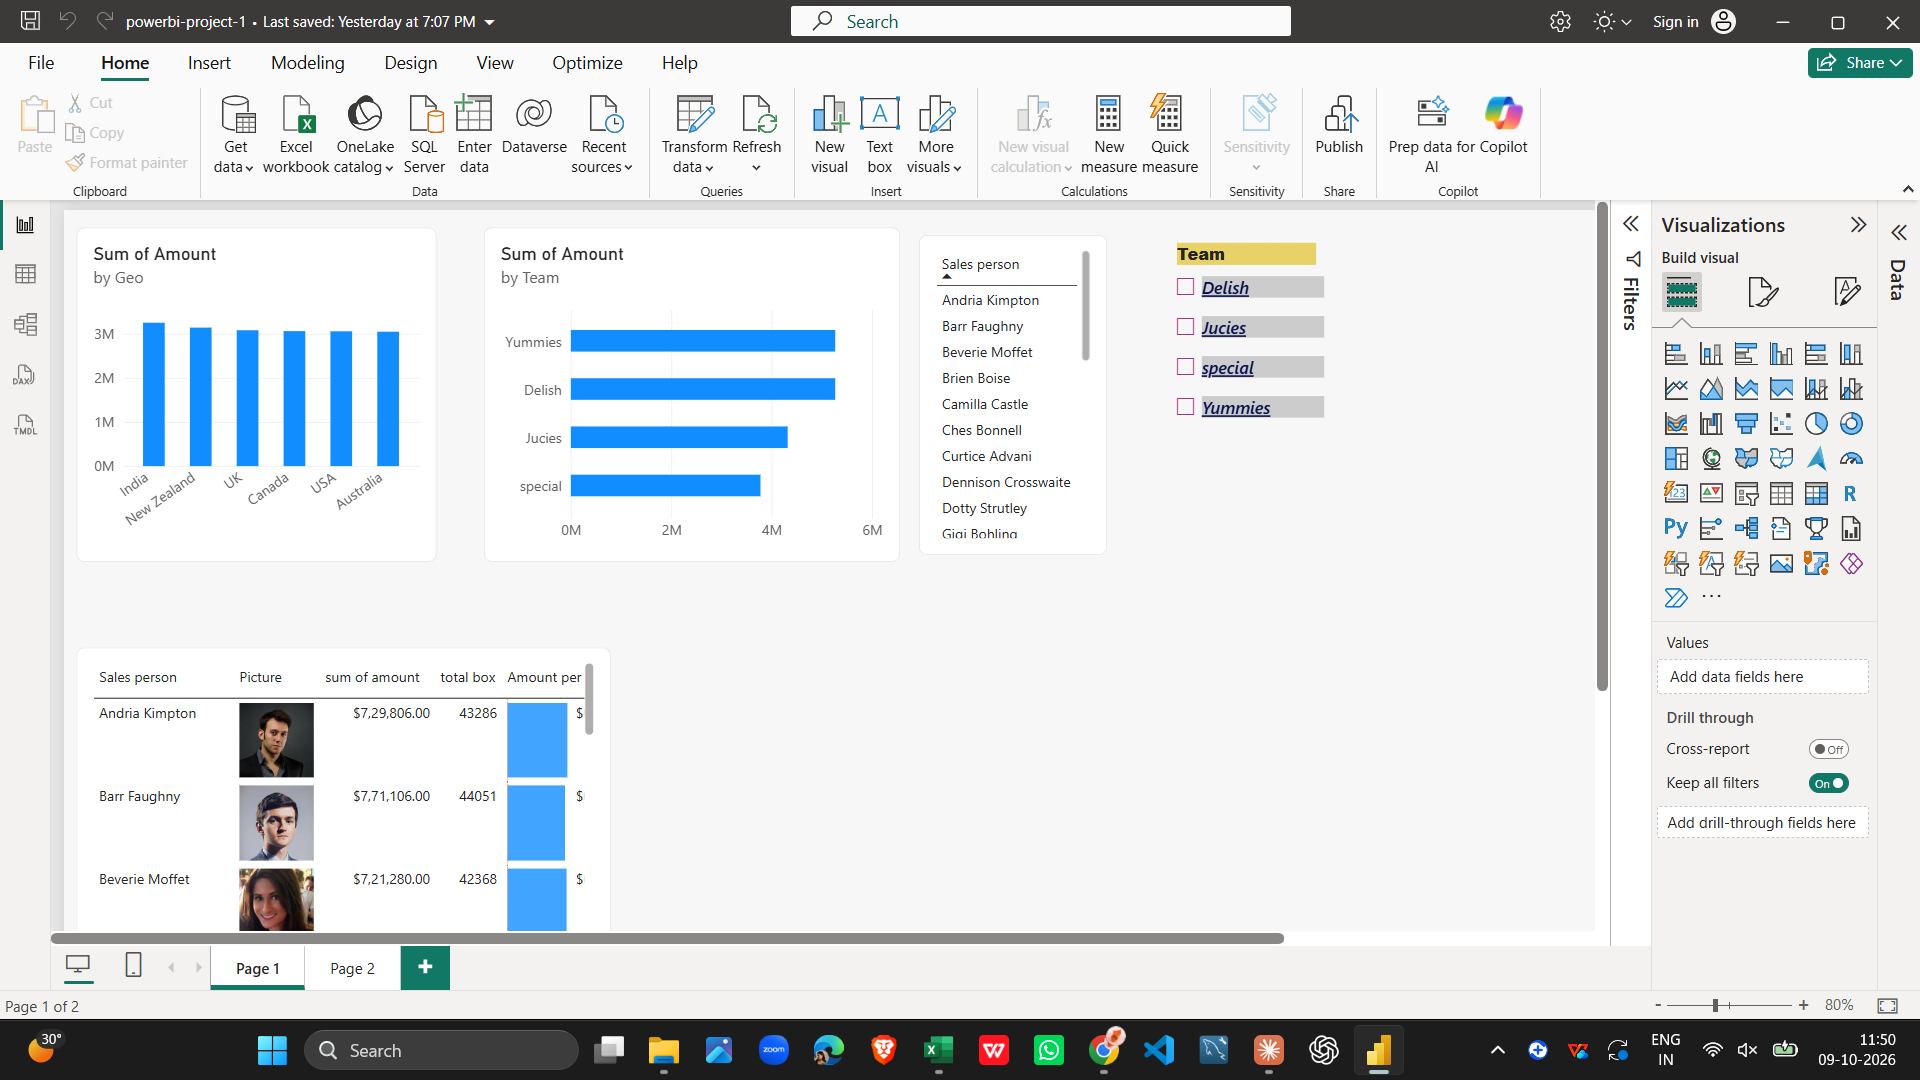

The page's visual inventory and layout, read from the dashboard file:
{"tool":"powerbi","page":{"name":"Page 1","canvas":[1920,1080],"ordinal":0},"visuals":[{"type":"columnChart","fields":{"Category":["locations.Geo"],"Y":["Sum(sales.Amount)"]},"box":[12.7,18.1,360.1,334.8],"z":0},{"type":"barChart","fields":{"Category":["people.Team"],"Y":["Sum(sales.Amount)"]},"box":[419.8,18.1,416.2,334.8],"z":1000},{"type":"tableEx","fields":{"Values":["people.Sales person"]},"box":[855.5,24.5,188.2,320.3],"z":2000},{"type":"tableEx","fields":{"Values":["people.Sales person","people.Picture","sales.Measure","sales.total box","sales.Amount per box"]},"box":[12.7,437.3,534.5,462.7],"z":3000},{"type":"slicer","fields":{"Values":["people.Team"]},"box":[1105,32.5,155,185],"z":4000}]}

Visuals, with their boxes on the page's 1920x1080 design canvas (x1, y1, x2, y2). These are canvas units, not pixel positions in the 1920x1080 screenshot, which may show the page scaled, cropped or inside an application window:
columnChart - locations.Geo x Sum(sales.Amount): select_region(13, 18, 373, 353)
barChart - people.Team x Sum(sales.Amount): select_region(420, 18, 836, 353)
tableEx - people.Sales person: select_region(856, 24, 1044, 345)
tableEx - people.Sales person x people.Picture: select_region(13, 437, 547, 900)
slicer - people.Team: select_region(1105, 32, 1260, 218)
